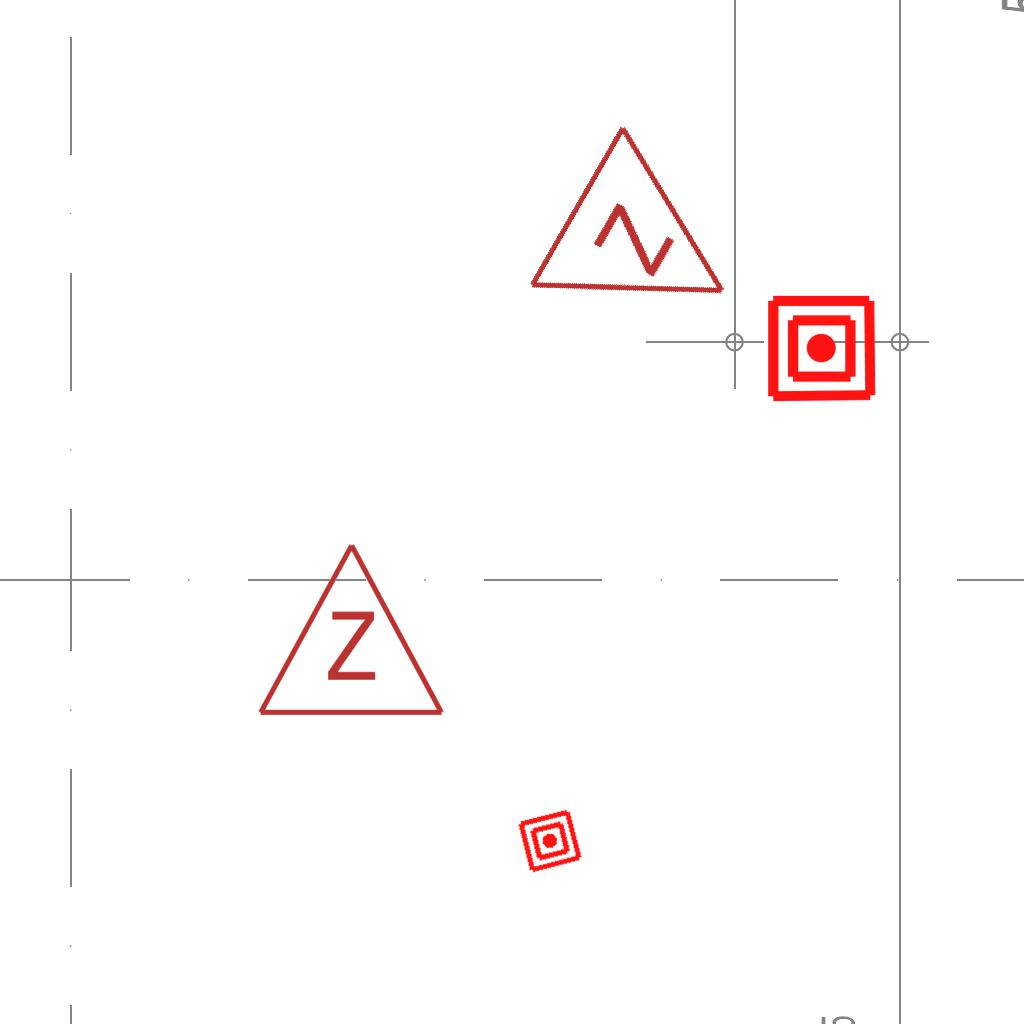NAM-Nichtautomatischer_Melder: (765, 292, 878, 405), (516, 807, 584, 875)
Zimmersignalleuchte: (514, 111, 786, 381), (251, 530, 447, 730)
